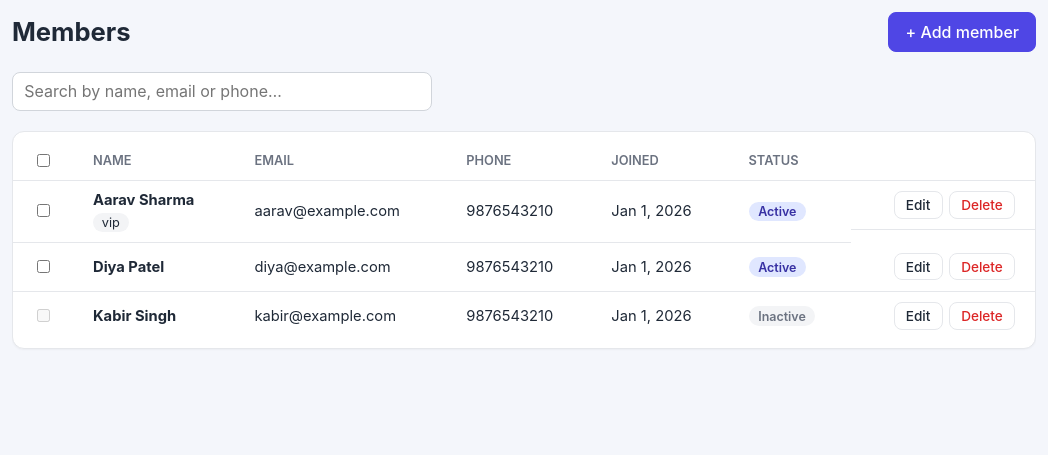
Test: MembersPage › applies bulk tag add to selected active members via API and shows confirmation
The width and height of the screenshot is (1048, 455).
Check: the text "Aarav Sharma" is shown, box [93,191,194,209]
// Select two active members
Click the checkbox named "Select Aarav Sharma" at [44, 211], box [37,204,50,218]
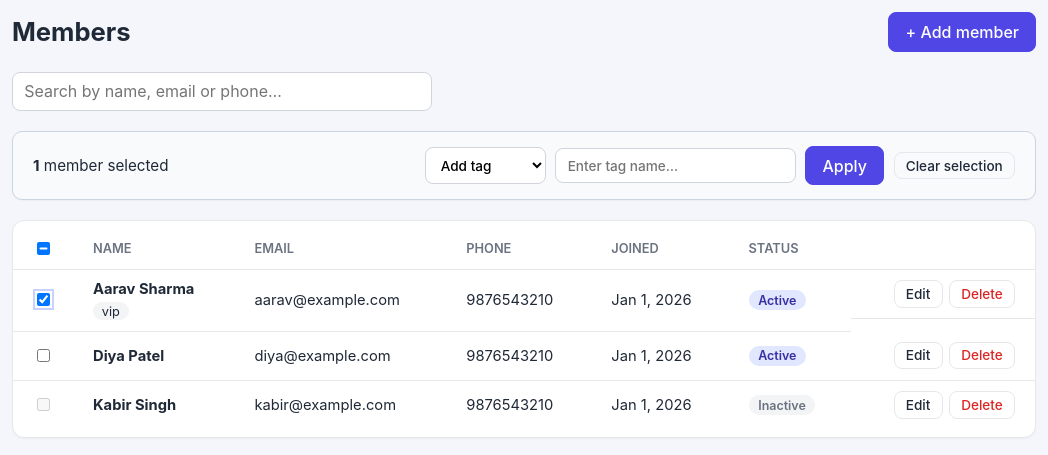
Click the checkbox named "Select Diya Patel" at [44, 355], box [37,349,50,362]
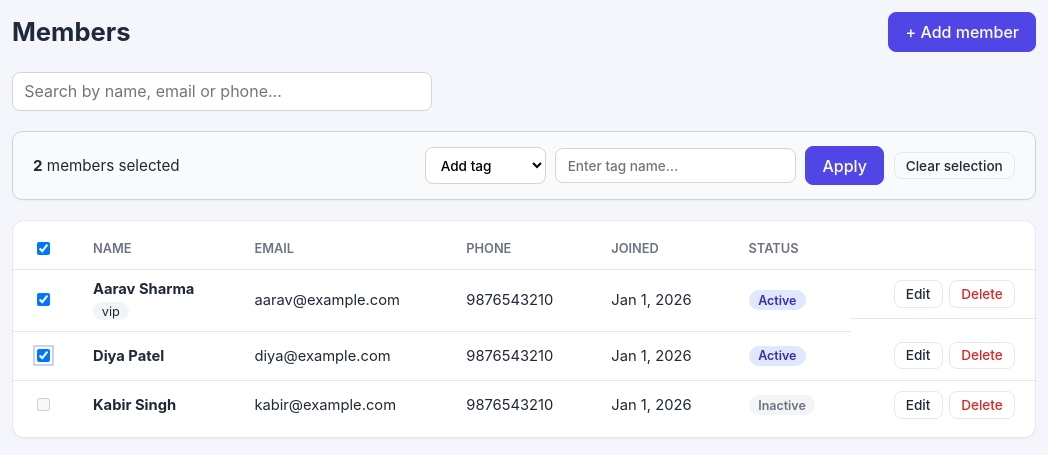
Check: the form named "Bulk actions" is shown, box [12,131,1036,200]
// Set tag name and apply
Select "Add tag" in the dropdown named "Tag action" at [485, 166], box [424,147,546,184]
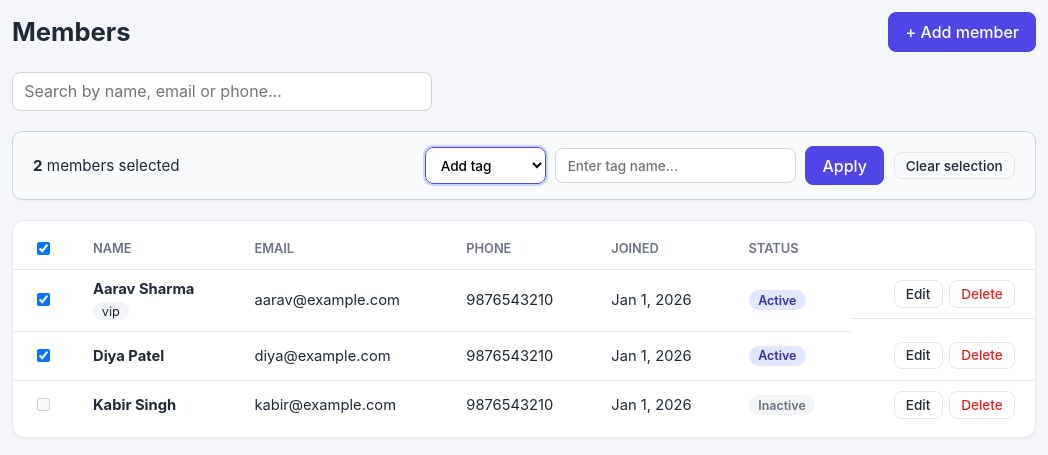
Type "premium" into the field labelled "tag name" at [676, 166], box [556,148,796,183]
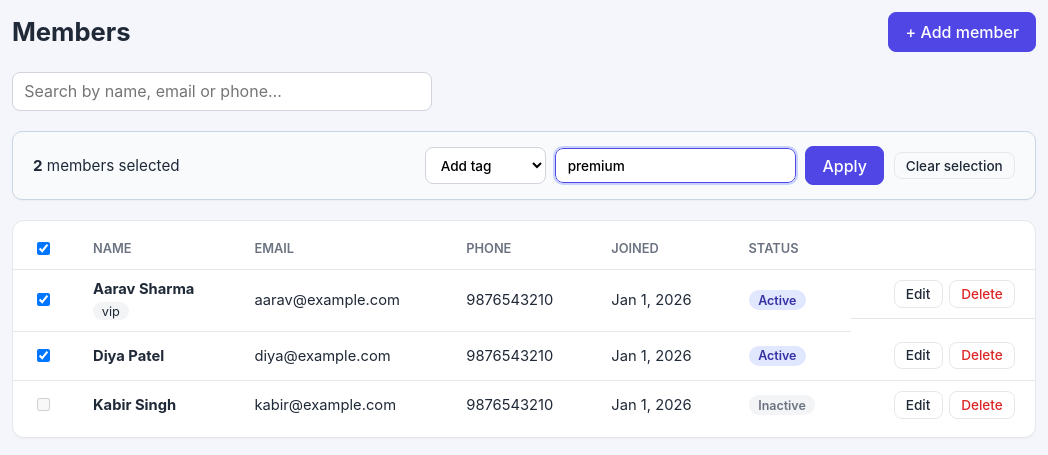
Click the button "Apply" at [845, 166], box [805,146,884,185]
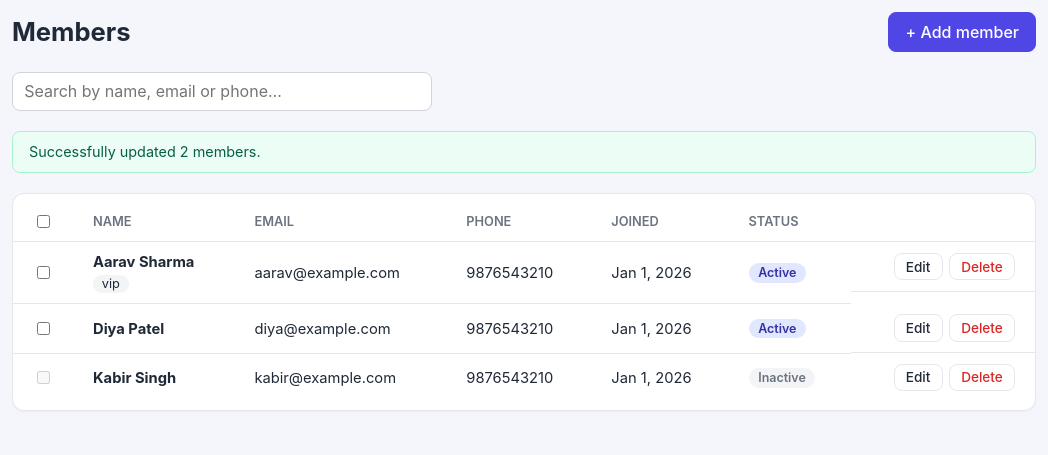
Check: the message reads "Successfully updated 2 members.", box [29,143,261,160]
